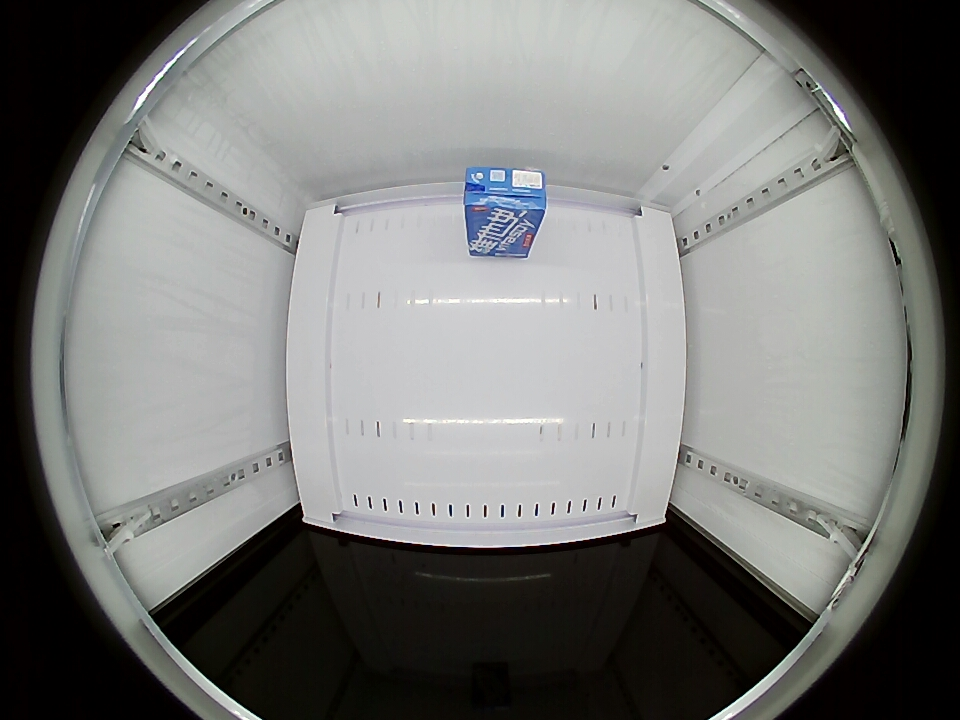weitanai: (463, 166, 548, 225)
